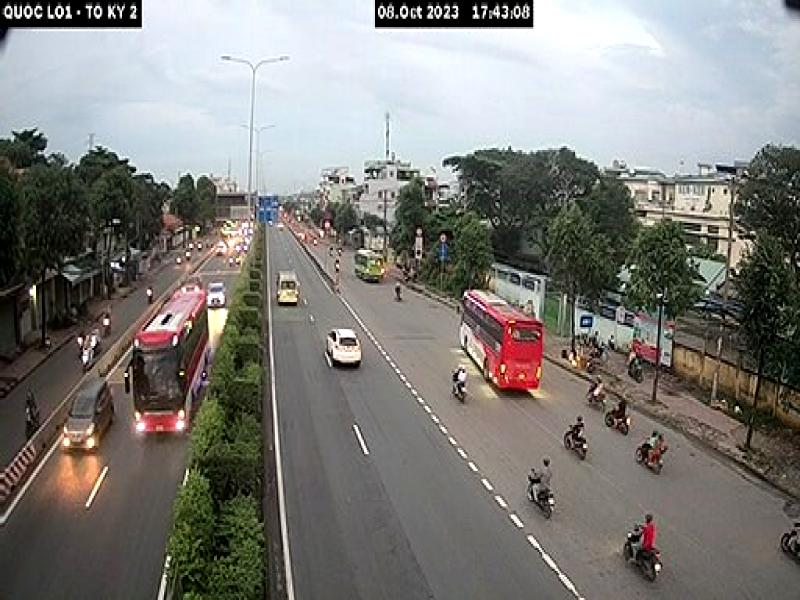bus: (131, 285, 210, 438), (461, 291, 544, 390)
car: (66, 373, 116, 461), (328, 324, 366, 374)
